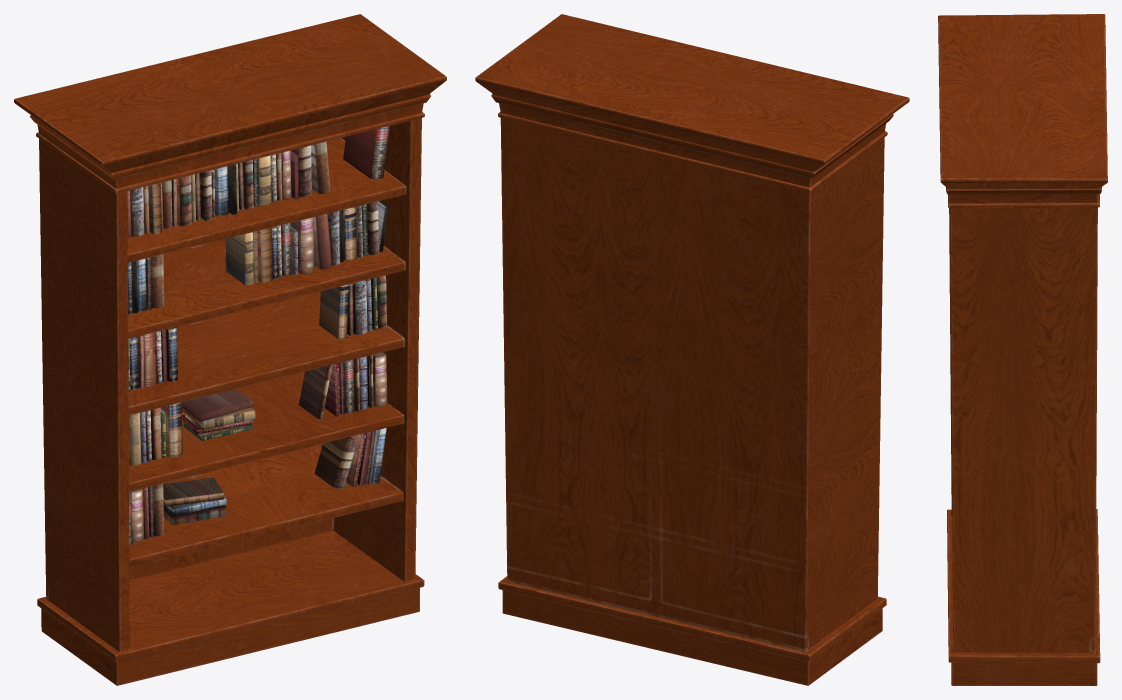
3 renders of one model, left to right at view 1: azimuth 30°, elevation 25°; view 2: azimuth 150°, elevation 25°; view 3: azimuth 270°, elevation 25°, orthographic. The views are drawn at different scales.
Parts seen in each view (by area): view 1: Victorian_Bookshelf_0, Books_001_1, Books_004_4, Books_009_9, Books_007_7, Books_012_12, Books_006_6, Books_008_8, Books_005_5, Books_011_11, Books_003_3, Books_010_10 (+1 smaller); view 2: Victorian_Bookshelf_0; view 3: Victorian_Bookshelf_0.
Part boxes in pixels (x1,y1,x2,y2): Victorian_Bookshelf_0: [14, 14, 446, 685]; Books_001_1: [127, 141, 330, 238]; Books_004_4: [225, 200, 388, 285]; Books_009_9: [298, 352, 387, 419]; Books_007_7: [319, 275, 387, 339]; Books_012_12: [314, 428, 386, 488]; Books_006_6: [182, 389, 255, 440]; Books_008_8: [129, 402, 182, 466]; Books_005_5: [128, 327, 177, 391]; Books_011_11: [163, 477, 226, 525]; Books_003_3: [128, 254, 164, 314]; Books_010_10: [129, 483, 164, 544]; Victorian_Bookshelf_0: [475, 14, 909, 685]; Victorian_Bookshelf_0: [938, 14, 1107, 685].
Bounding box in the file's own units: 1.34 × 1.96 × 0.5827.
Materials: 2 (2 with a texture image).
